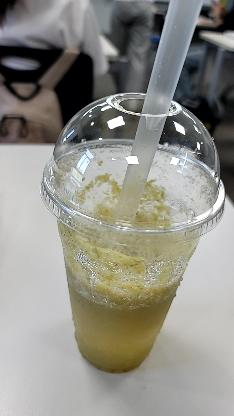Others: (40, 90, 228, 376), (40, 91, 225, 247)
